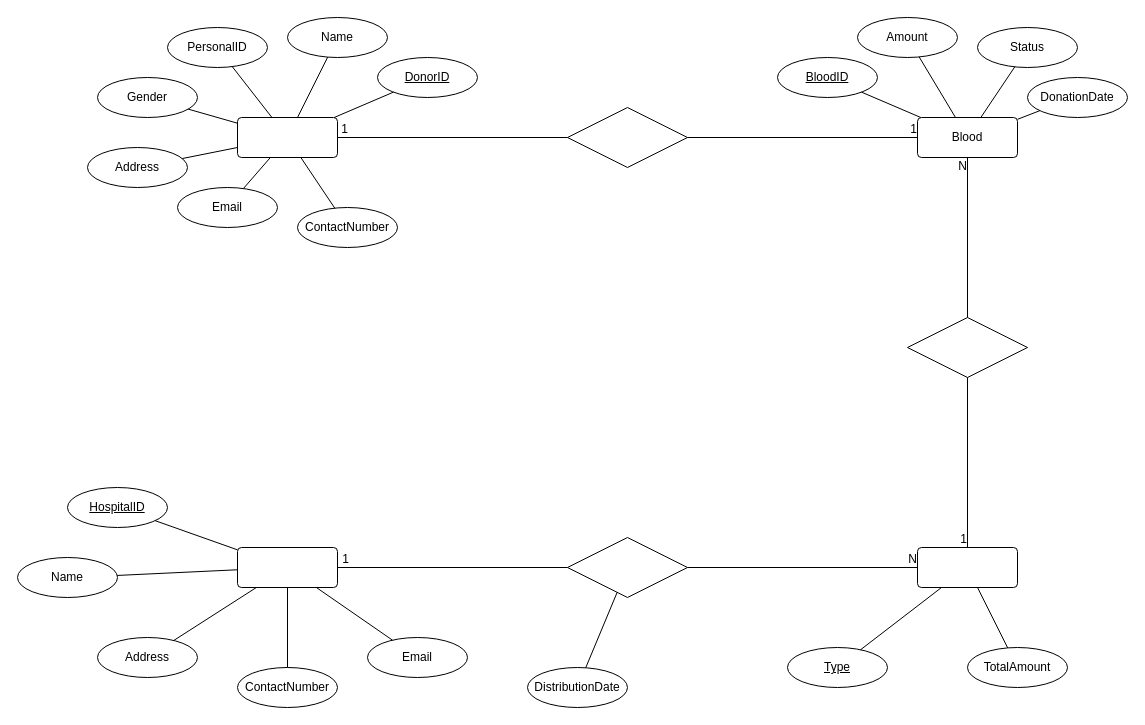
Image size: 1145x725. Some labels were removed from this diagram. Each missing label, with the box of its shape:
BelongTo: (906, 316, 1028, 378)
BloodGroup: (916, 546, 1018, 588)
DistributeBlood: (566, 536, 688, 598)
Donate: (566, 106, 688, 168)
Donor: (236, 116, 338, 158)
Hospital: (236, 546, 338, 588)
